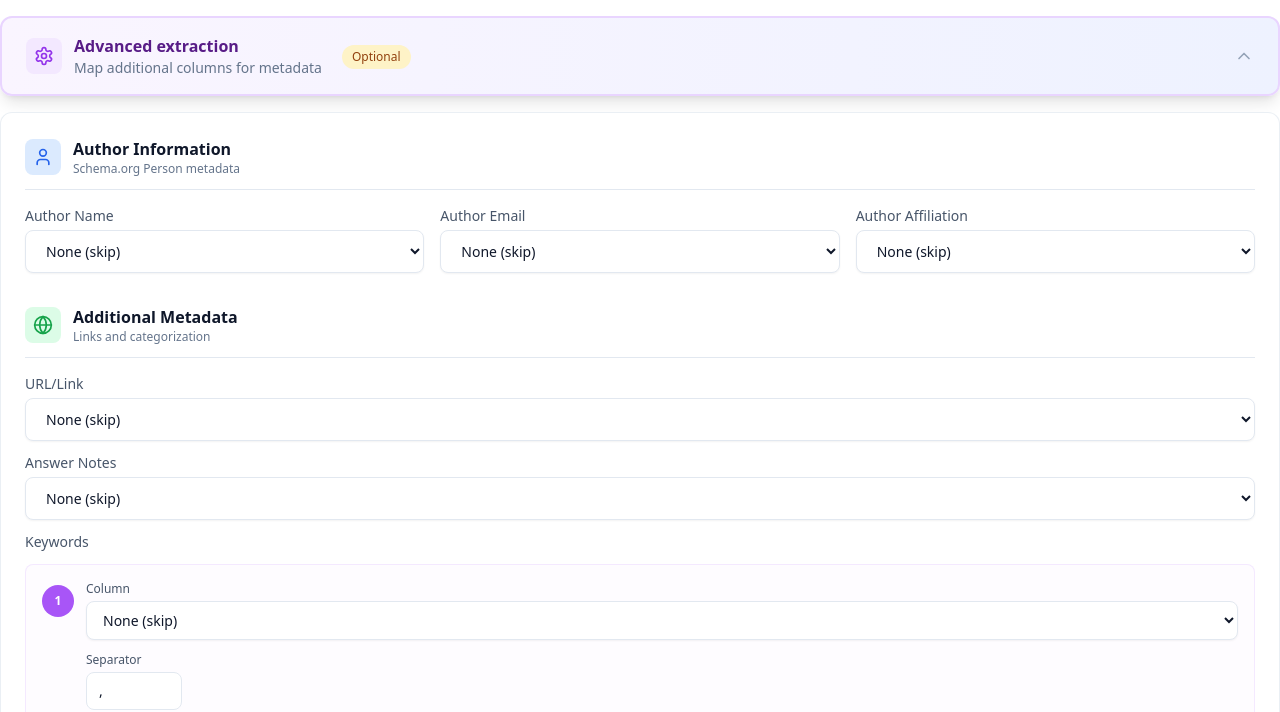
it: AdvancedExtractionPanel › shows keywords separator input and preview when keywords column is selected
Select "Keywords" in the dropdown labelled "Column" at (662, 620), box [86,601,1238,640]
(page scrolled)
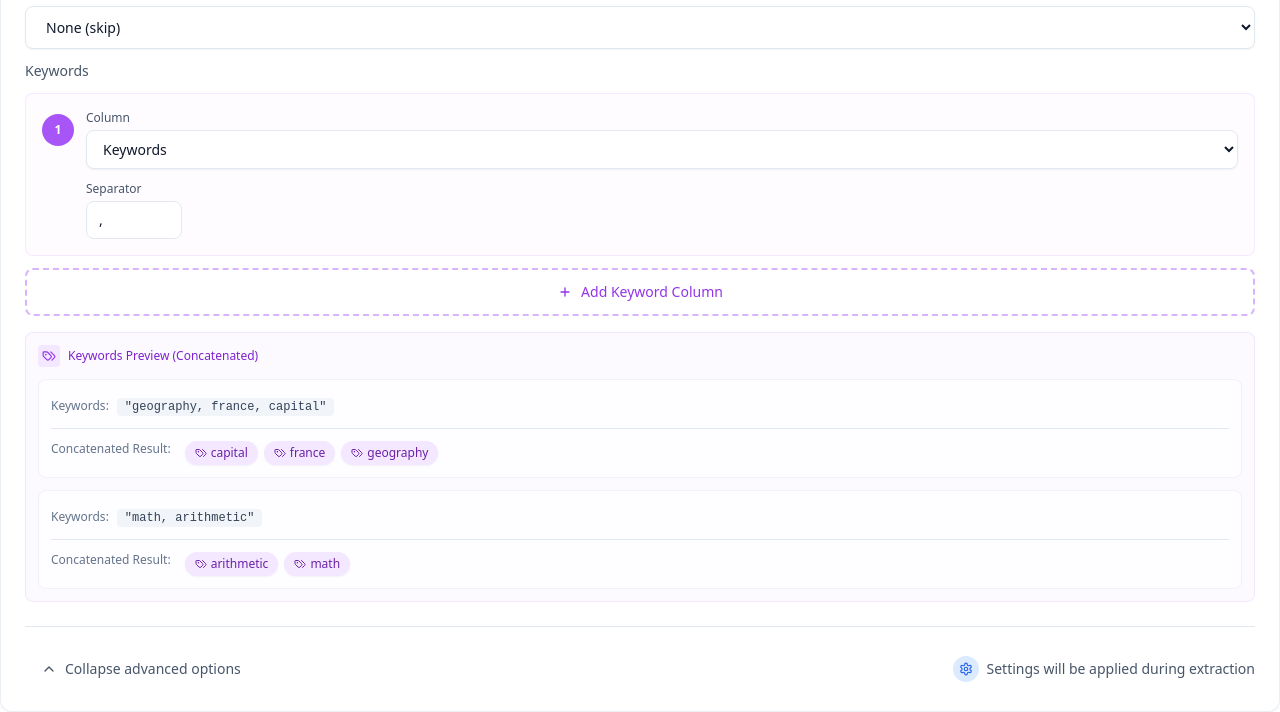
Expected: the field labelled "Separator" is shown, [86,201,182,239]
Expected: the text "Keywords Preview (Concatenated)" is shown, [68,348,258,364]
Expected: the text "\"geography, france, capital\"" is shown, [117,398,334,416]
